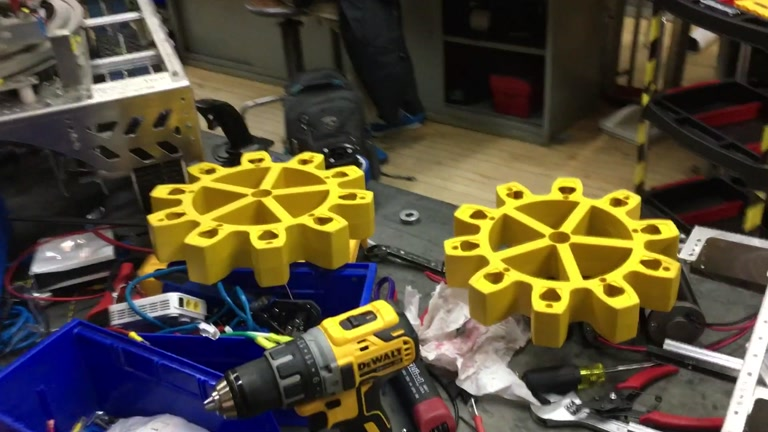gear: (443, 176, 684, 349), (145, 149, 374, 287)
